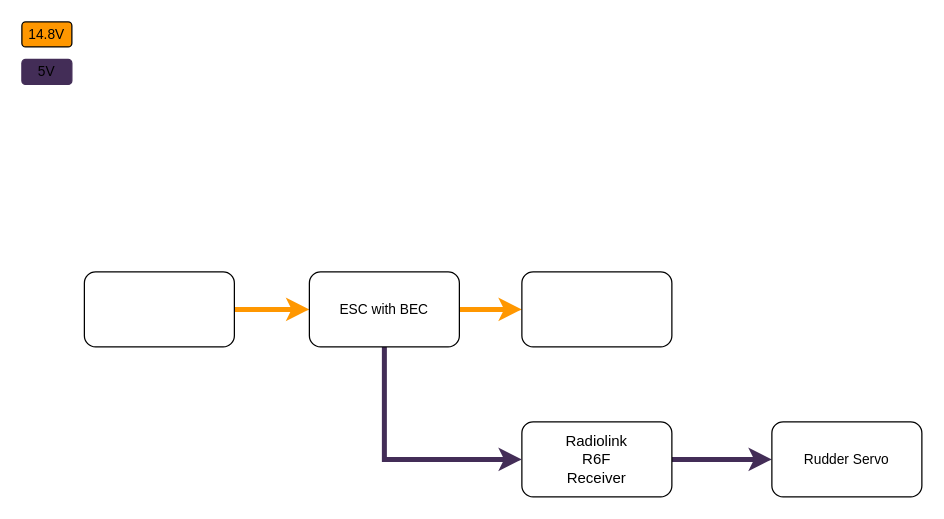
Image size: 944x519. Some labels were removed from this diagram. The centre of each missing label's shape, as x and y in pixels:
"Battery (4S 14.8V)" belongs at point (158, 309).
"Thruster" belongs at point (596, 309).
